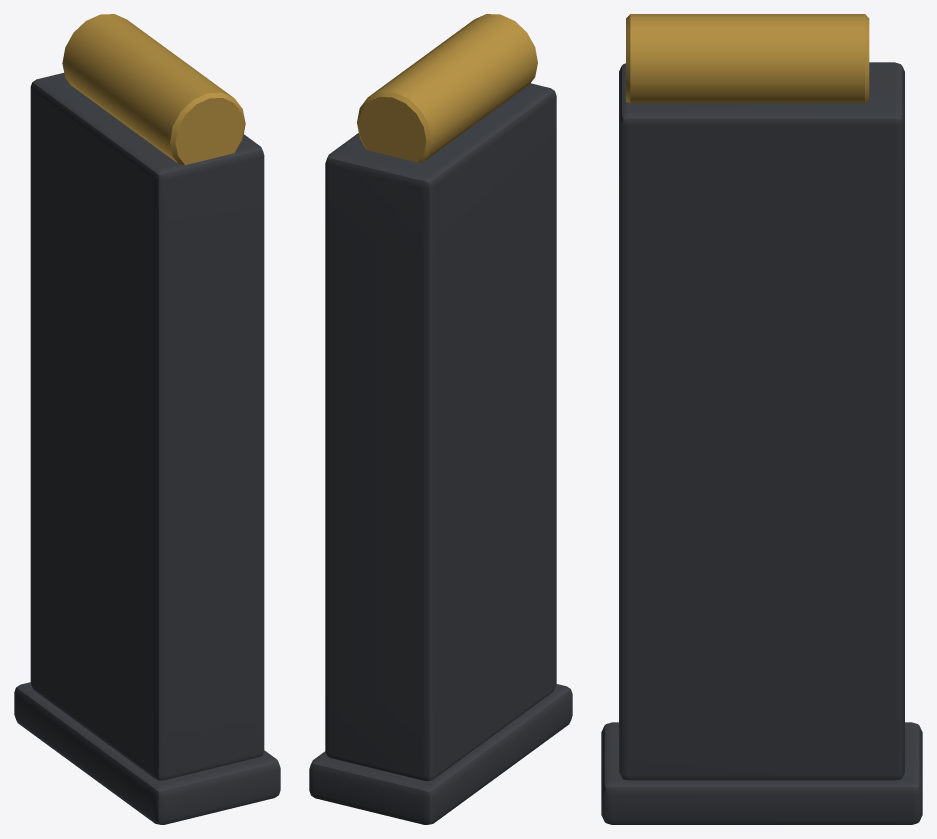
Rendered from mod_w45_standard_mag.glb.
The picture shows the model from 3 angles, left to right: view 1: azimuth 30°, elevation 25°; view 2: azimuth 150°, elevation 25°; view 3: azimuth 270°, elevation 25°; orthographic projection. The views are drawn at different scales.
Visible parts, largest first — view 1: Magazine, MagazineRound; view 2: Magazine, MagazineRound; view 3: Magazine, MagazineRound.
Boxes of the visible parts, x1,y1,x2,y2 form: Magazine: (14,73,280,824); MagazineRound: (62,14,245,165); Magazine: (309,83,572,824); MagazineRound: (357,14,537,162); Magazine: (601,62,922,824); MagazineRound: (626,14,869,103).
Size of the model in its own units: 0.0184 by 0.0988 by 0.037.
